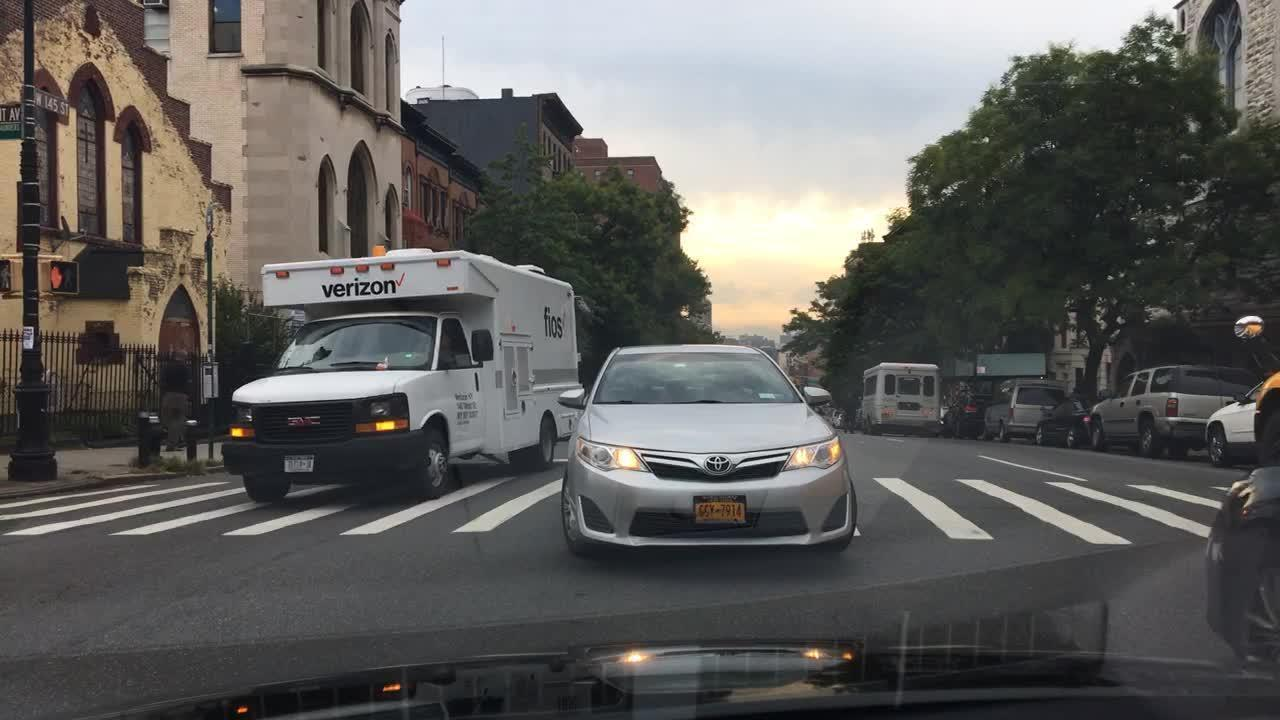GMC: (282, 412, 325, 432)
Toyota: (704, 449, 729, 478)
